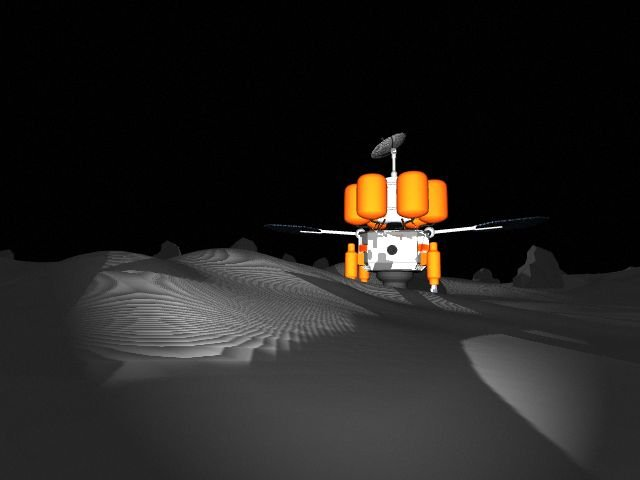homebase: (261, 131, 546, 297)
